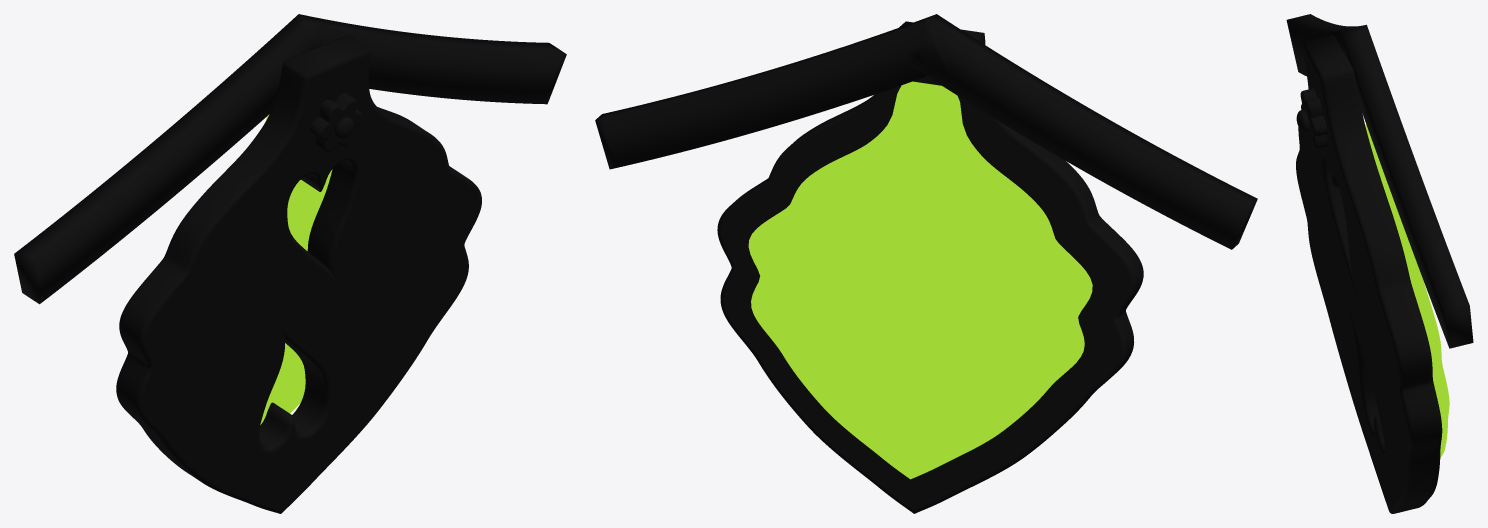
3 views of the same model, side by side, from view 1: azimuth 30°, elevation 25°; view 2: azimuth 150°, elevation 25°; view 3: azimuth 270°, elevation 25° (orthographic). The views are drawn at different scales.
Visible parts, largest first — view 1: gegyo, hafu, hikari, rokuyo; view 2: hikari, hafu, gegyo; view 3: gegyo, hafu, hikari, rokuyo, byo.
Part boxes in pixels (x1,y1,x2,y2): gegyo: [116, 35, 481, 513]; hafu: [14, 14, 566, 304]; hikari: [260, 114, 332, 424]; rokuyo: [309, 93, 362, 152]; hikari: [748, 81, 1092, 479]; hafu: [595, 14, 1257, 249]; gegyo: [717, 21, 1143, 513]; gegyo: [1296, 35, 1442, 513]; hafu: [1286, 14, 1473, 348]; hikari: [1365, 124, 1449, 457]; rokuyo: [1300, 88, 1327, 148]; byo: [1296, 110, 1309, 132].
Bounding box in the file's own units: 1.81 × 1.41 × 0.486.
